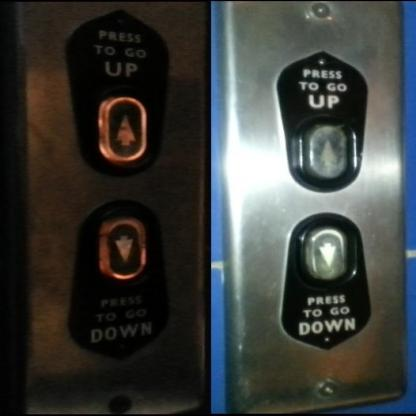down: (293, 212, 359, 290), (100, 218, 145, 278)
up: (291, 113, 359, 190), (99, 95, 148, 161)
